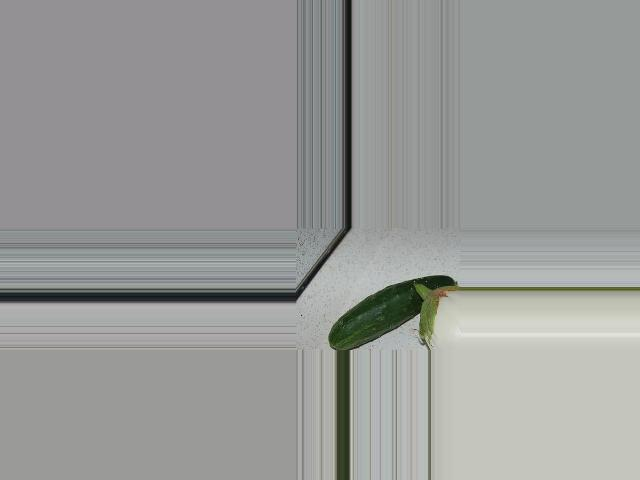cucumber: (328, 276, 457, 351)
